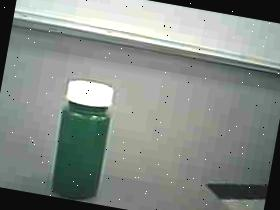Bottle C: (34, 68, 131, 206)
